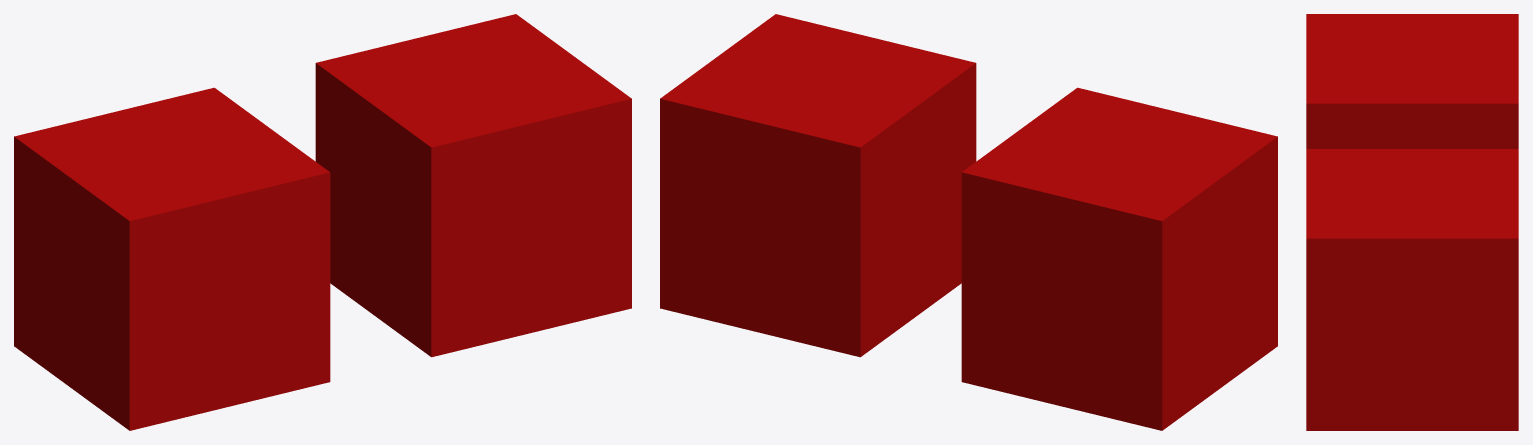
The model's file is CustomAttributes.gltf.
The picture shows the model from 3 angles, left to right: view 1: azimuth 30°, elevation 25°; view 2: azimuth 150°, elevation 25°; view 3: azimuth 270°, elevation 25°; orthographic projection. The views are drawn at different scales.
Parts seen in each view (by area): view 1: MasterMesh, InstanceMesh; view 2: MasterMesh, InstanceMesh; view 3: InstanceMesh, MasterMesh.
Part boxes in pixels (bbox=[...]): MasterMesh: bbox=[14, 87, 330, 430]; InstanceMesh: bbox=[315, 14, 631, 357]; MasterMesh: bbox=[961, 87, 1277, 430]; InstanceMesh: bbox=[660, 14, 976, 357]; InstanceMesh: bbox=[1306, 149, 1518, 430]; MasterMesh: bbox=[1306, 14, 1518, 148].
Bounding box in the file's own units: 2.51 × 1 × 1.
